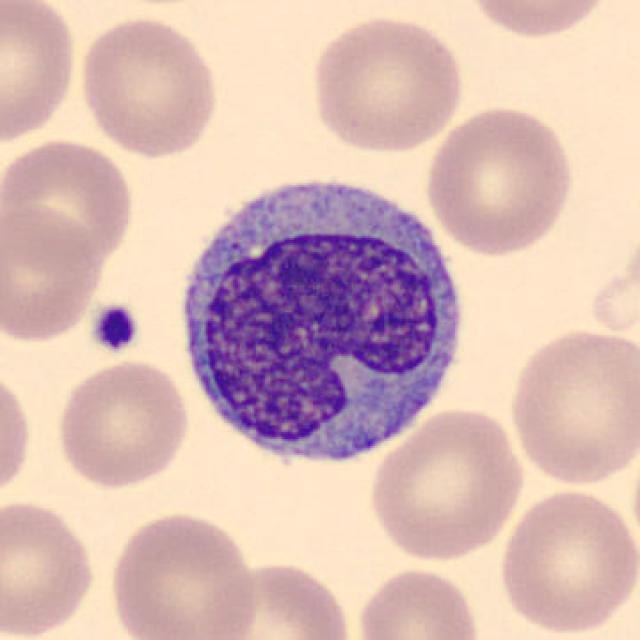Monocyte: (165, 158, 475, 478)
Platelets: (87, 302, 142, 356)
RBC: (364, 404, 528, 562), (421, 102, 578, 258), (306, 11, 468, 155), (494, 485, 638, 638), (505, 325, 638, 490), (75, 12, 222, 160), (105, 508, 261, 640), (0, 134, 140, 268), (52, 358, 192, 490), (0, 201, 107, 344), (0, 493, 99, 640), (199, 555, 357, 640), (0, 0, 80, 146), (352, 564, 485, 640), (459, 0, 617, 41), (0, 363, 36, 510)
